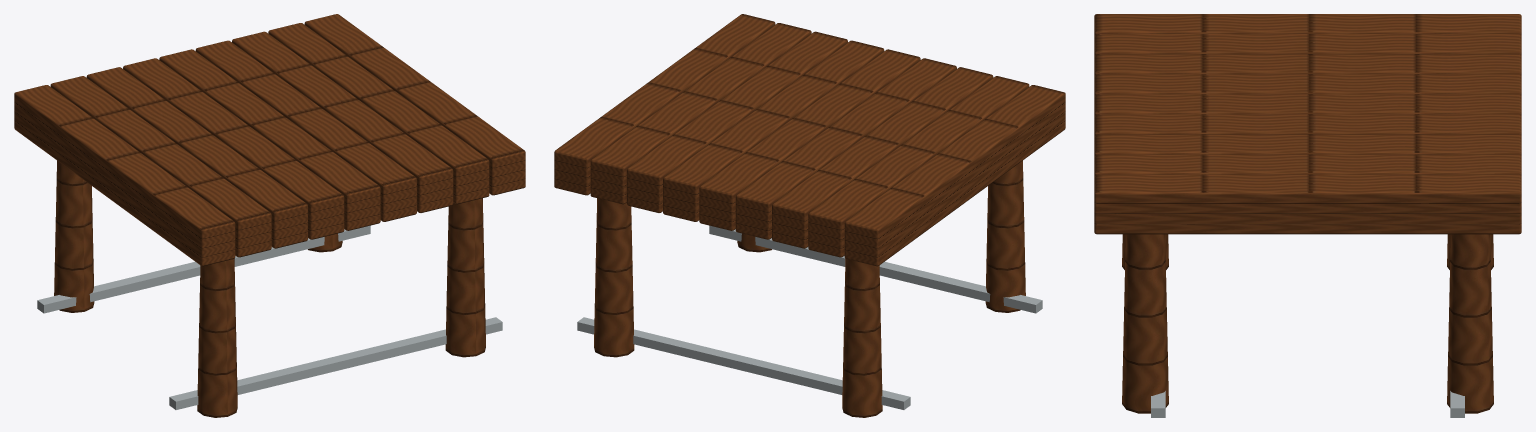
The model's file is modular-survival-base-builder-timber-pile-foundation-r-97999b87__24268.glb.
The picture shows the model from 3 angles, left to right: view 1: azimuth 30°, elevation 25°; view 2: azimuth 150°, elevation 25°; view 3: azimuth 270°, elevation 25°; orthographic projection. The views are drawn at different scales.
Parts seen in each view (by area): view 1: timber-pile-foundation-reinforced; view 2: timber-pile-foundation-reinforced; view 3: timber-pile-foundation-reinforced.
Part boxes in pixels (<box>): timber-pile-foundation-reinforced: <box>14,14,525,417</box>; timber-pile-foundation-reinforced: <box>554,14,1065,417</box>; timber-pile-foundation-reinforced: <box>1094,14,1521,417</box>.
Size of the model in its own units: 2 by 1.2 by 2.
Materials: 2 (1 with a texture image).
